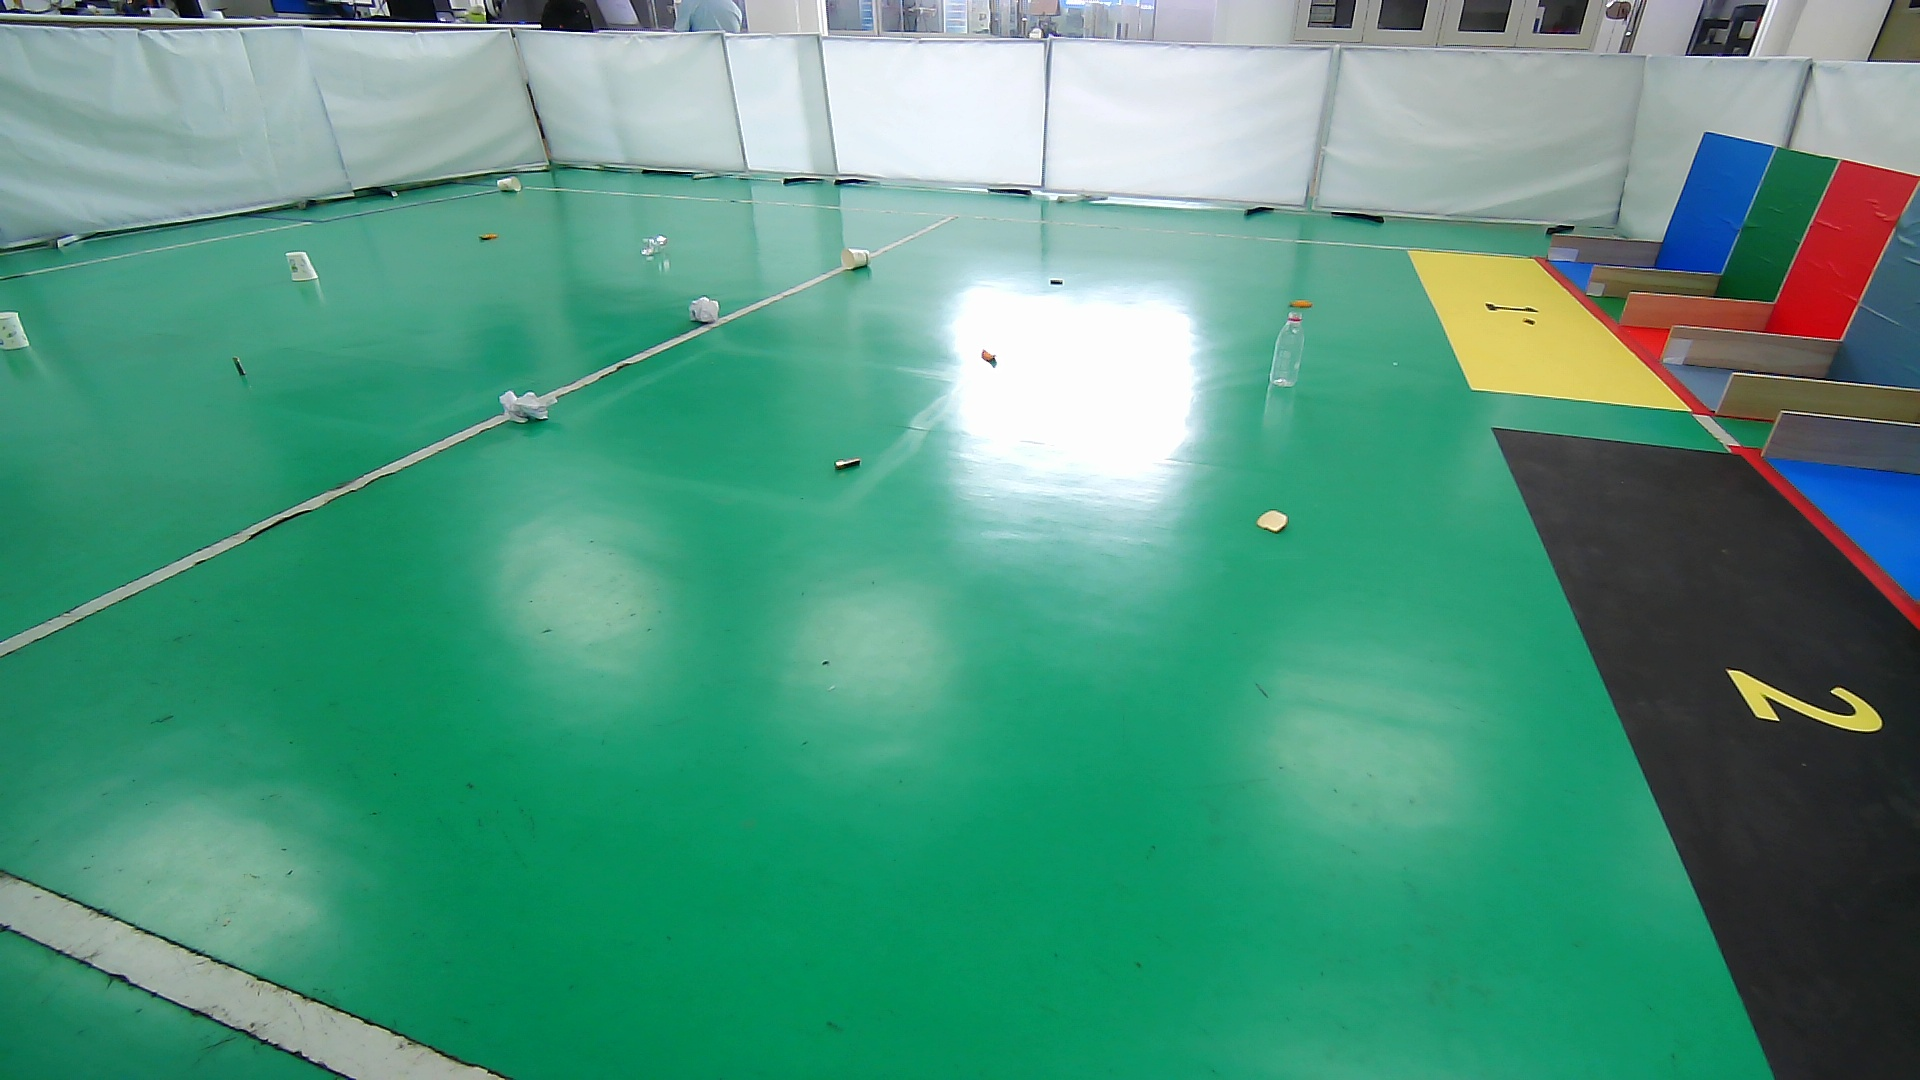battery: (828, 450, 868, 476), (228, 349, 252, 384), (1044, 274, 1069, 290)
bottle: (1265, 310, 1307, 390), (640, 233, 670, 257)
orangepeel: (1251, 502, 1294, 539), (1283, 291, 1317, 313), (473, 227, 504, 247), (977, 345, 1001, 367)
papercup: (282, 247, 322, 285), (1, 309, 32, 353), (839, 245, 873, 272), (496, 175, 524, 195)
spitball: (500, 386, 558, 425), (688, 295, 723, 324)
